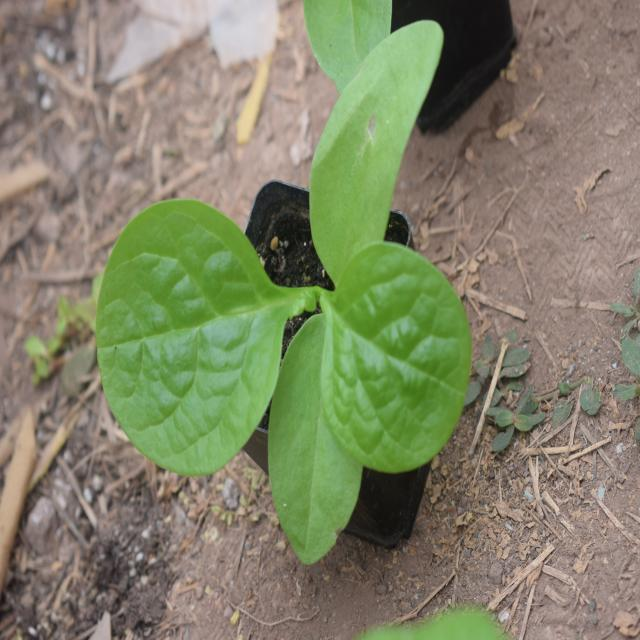Ceylon spinach: (85, 52, 468, 547)
